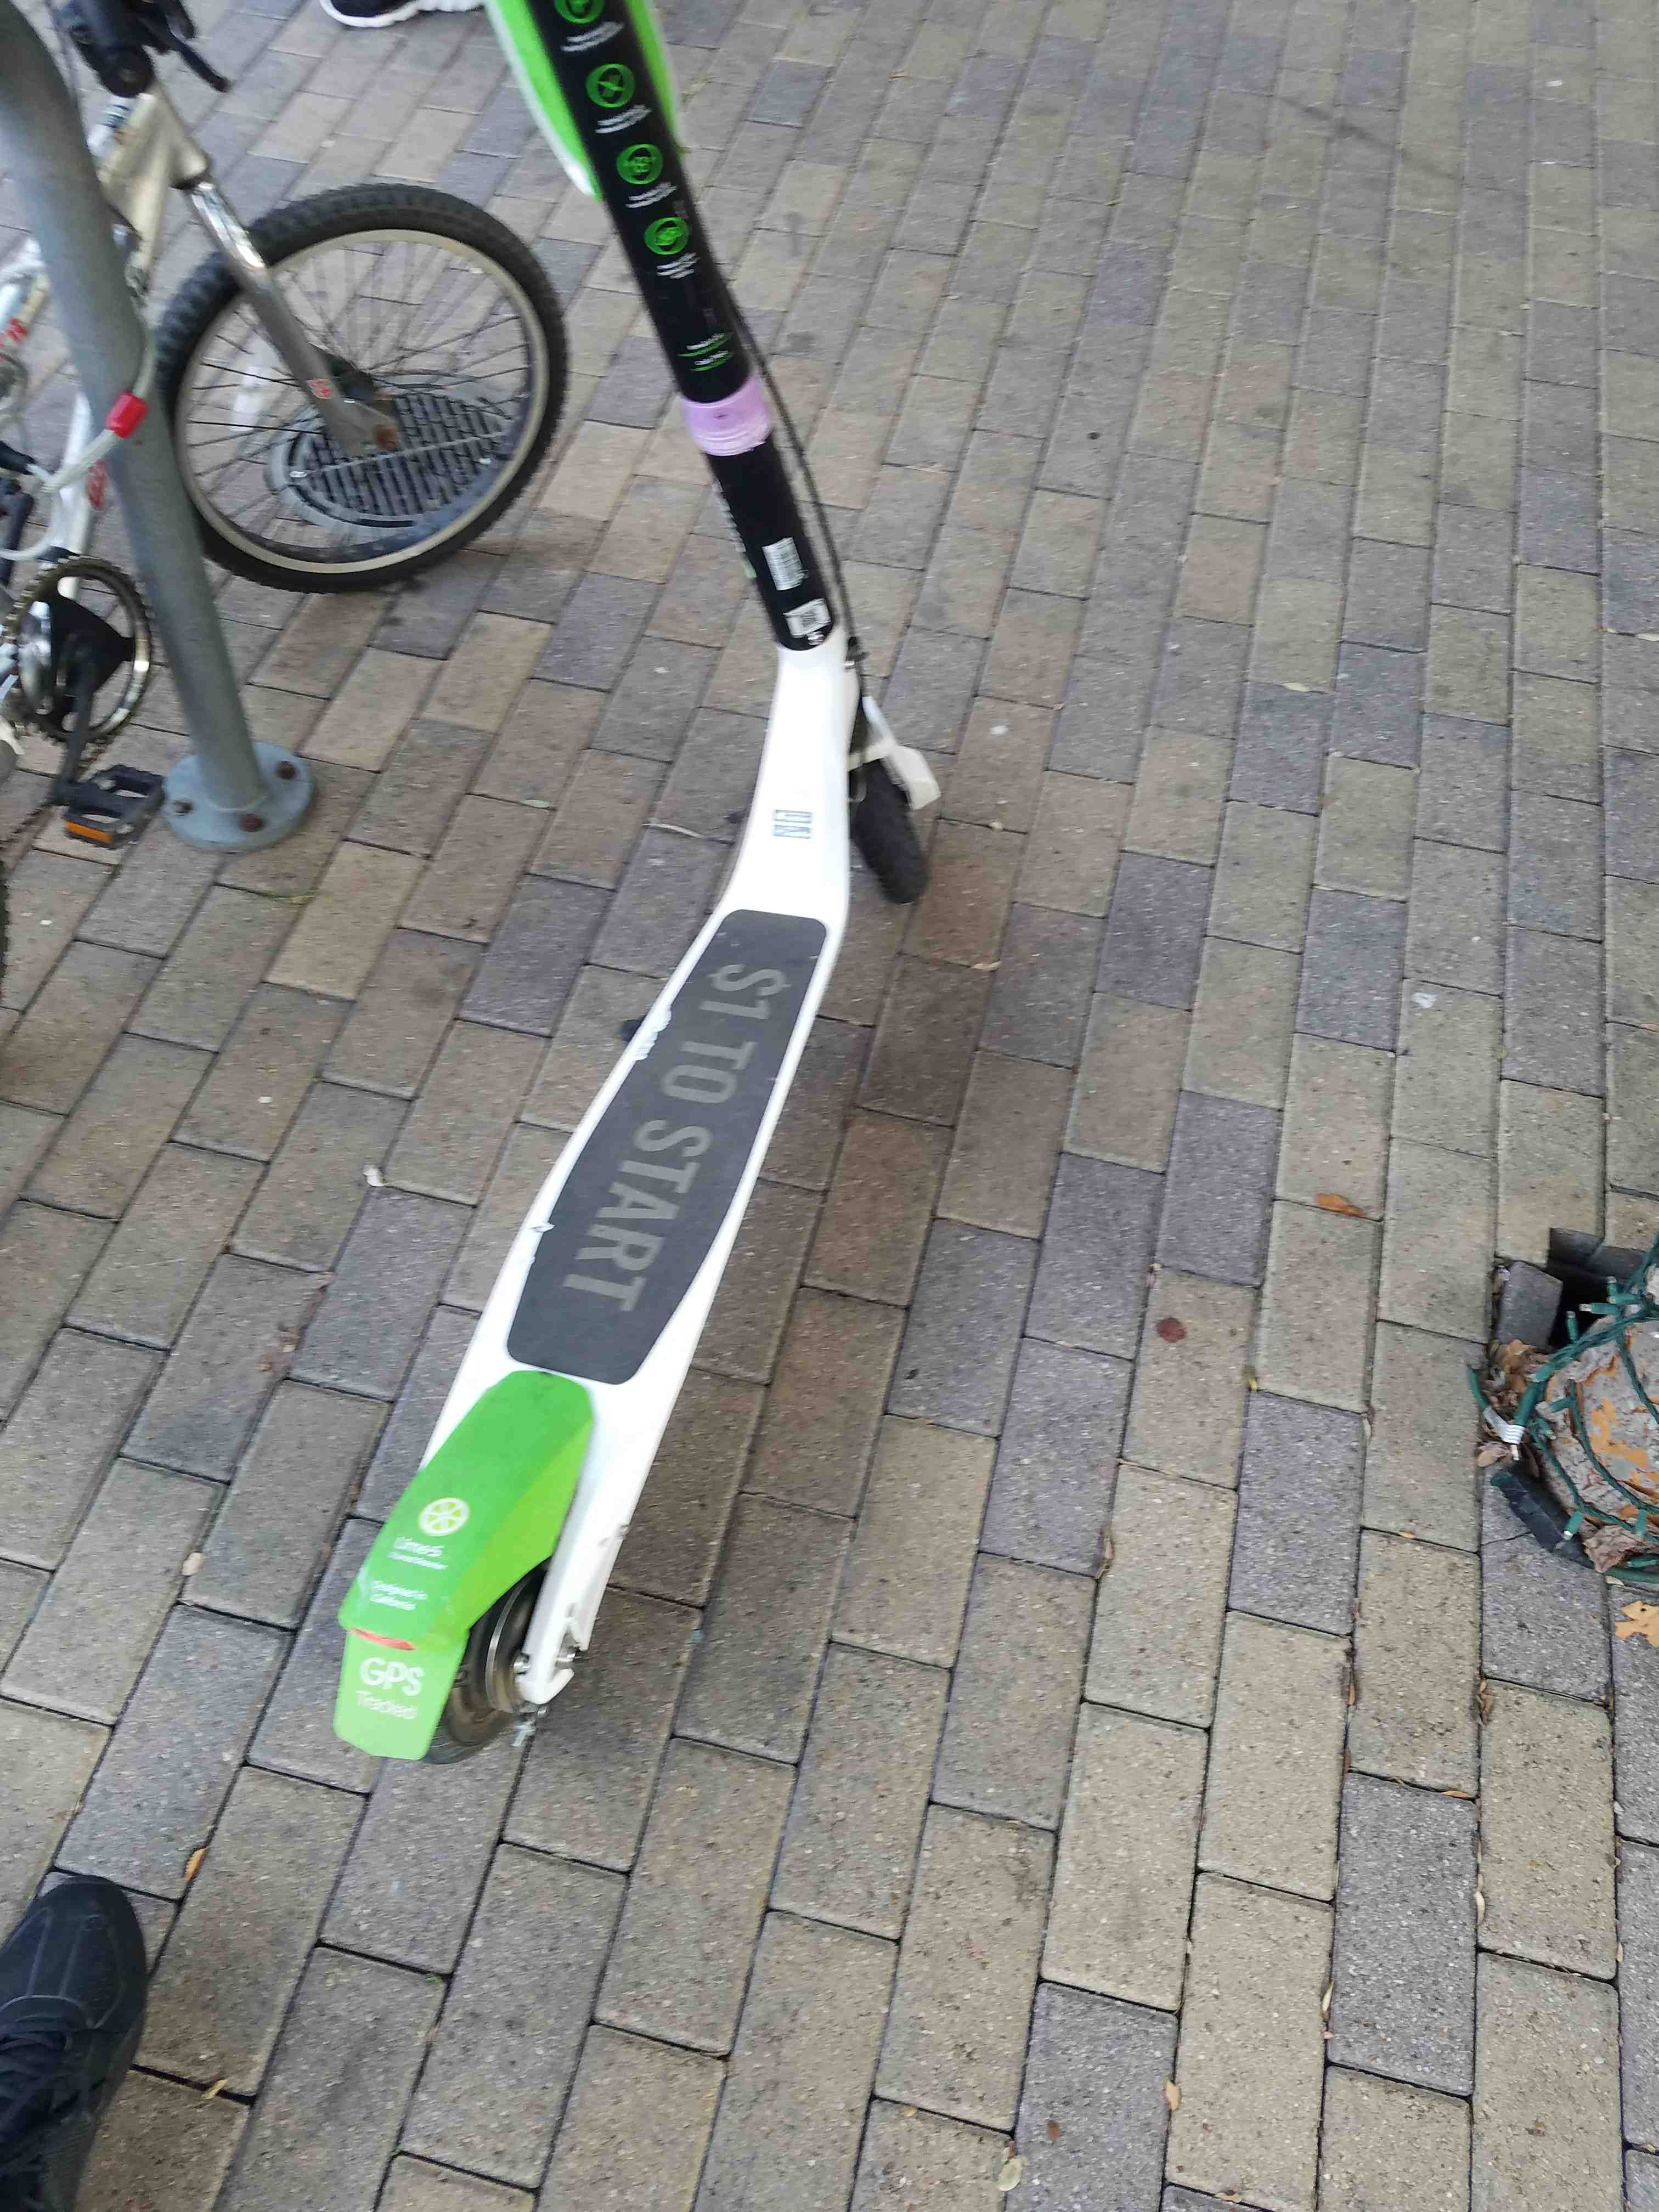scooter: (268, 0, 990, 1839)
